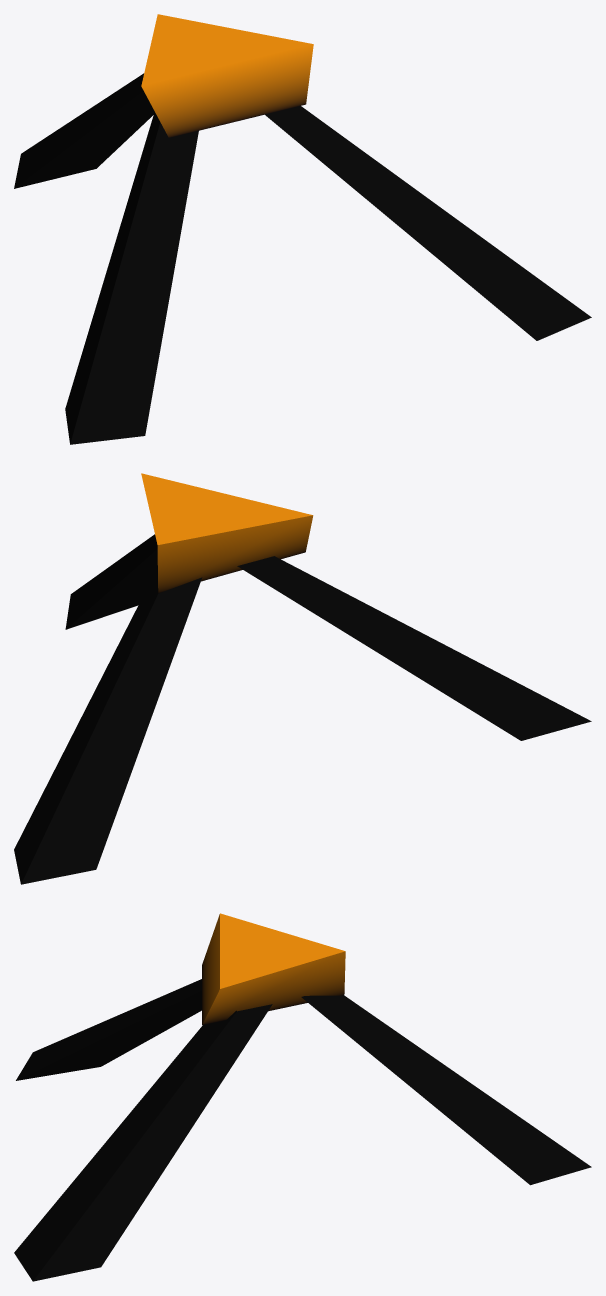
File: RTurret_Base.glb
3 views of the same model, one above another, from view 1: azimuth 30°, elevation 25°; view 2: azimuth 150°, elevation 25°; view 3: azimuth 270°, elevation 25° (orthographic). The views are drawn at different scales.
Visible parts, largest first — view 1: RTurret_Base; view 2: RTurret_Base; view 3: RTurret_Base.
Boxes of the visible parts, x1,y1,x2,y2 form: RTurret_Base: (14,14,591,444); RTurret_Base: (14,473,591,884); RTurret_Base: (14,913,591,1281).
Bounding box in the file's own units: 0.4414 × 0.1938 × 0.4701.
Materials: 1 (1 with a texture image).
